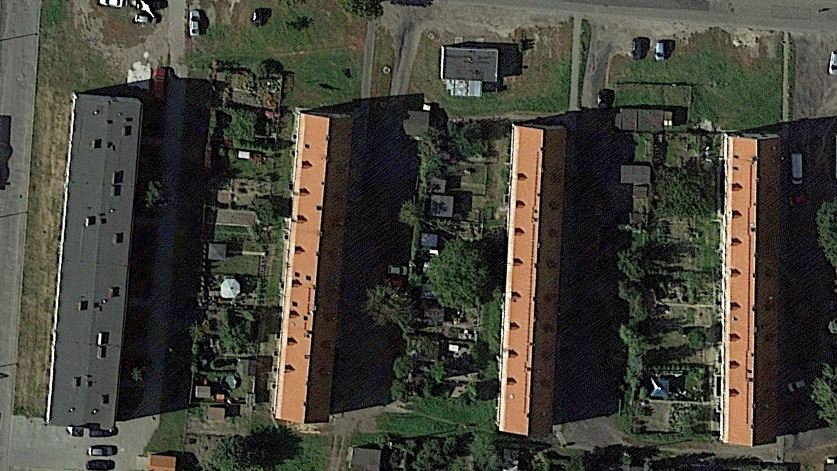block of flats: (35, 88, 149, 434), (266, 105, 360, 430), (495, 120, 572, 439), (713, 127, 788, 452)
